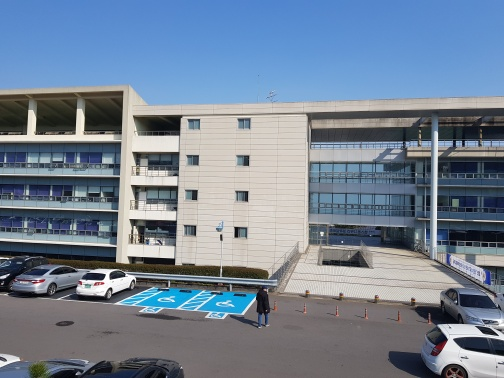Engineering College Building 4: (1, 92, 504, 260), (315, 103, 501, 282), (3, 90, 175, 258), (137, 102, 309, 268)
